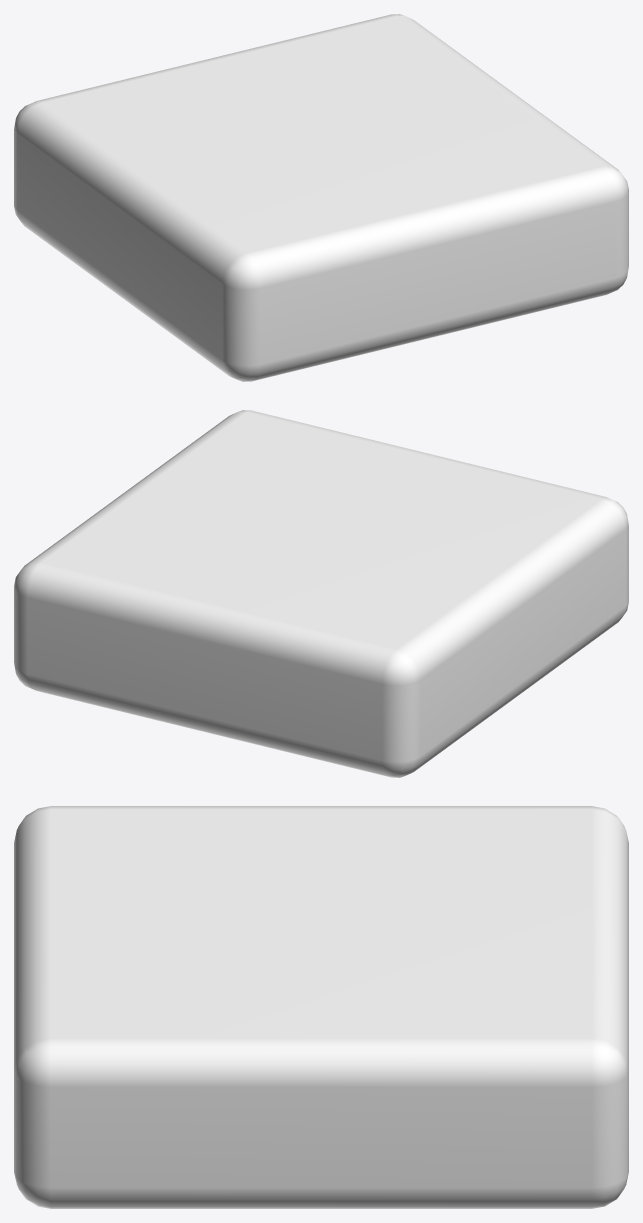
The model's file is tongue.obj.
The picture shows the model from 3 angles, top to bottom: view 1: azimuth 30°, elevation 25°; view 2: azimuth 150°, elevation 25°; view 3: azimuth 270°, elevation 25°; orthographic projection. The views are drawn at different scales.
Parts seen in each view (by area): view 1: pCube1; view 2: pCube1; view 3: pCube1.
Boxes of the visible parts, x1,y1,x2,y2 form: pCube1: [14, 14, 628, 381]; pCube1: [14, 410, 628, 777]; pCube1: [14, 806, 628, 1208].
Size of the model in its own units: 1 by 0.3 by 1.
1 material, 1 textured.
